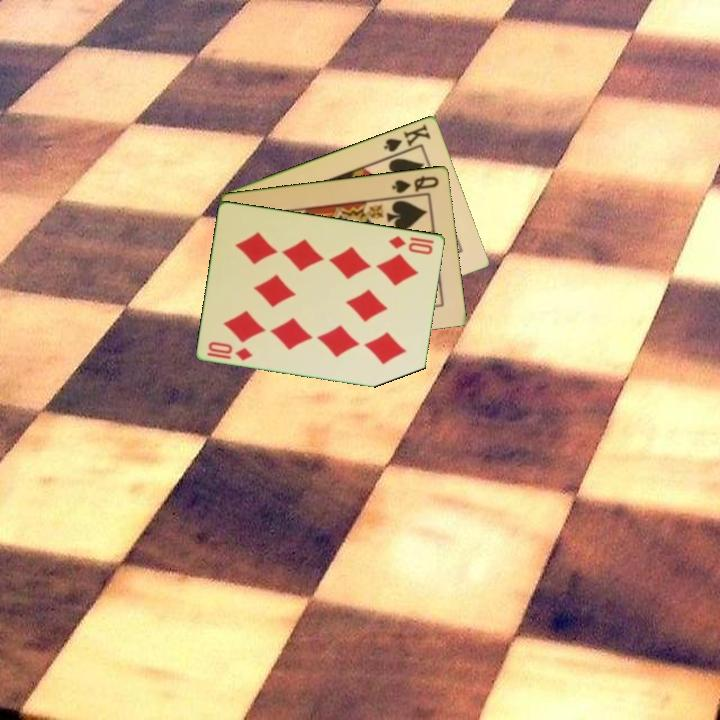10d: (204, 338, 256, 363), (386, 232, 437, 257)
Ks: (380, 120, 434, 159)
Qs: (388, 171, 442, 196)
